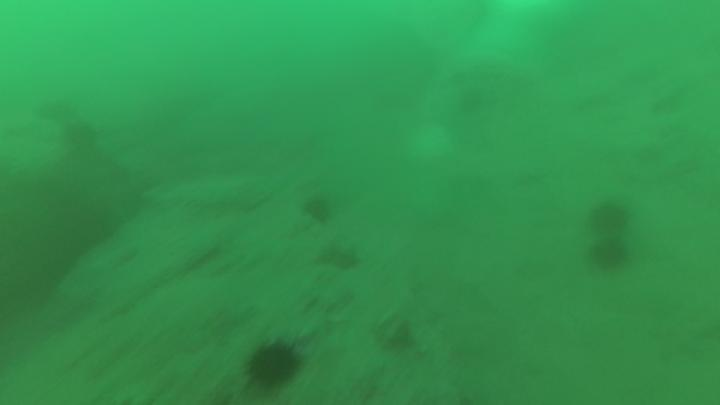echinus: (247, 337, 303, 394), (591, 197, 631, 240), (589, 232, 630, 272)
